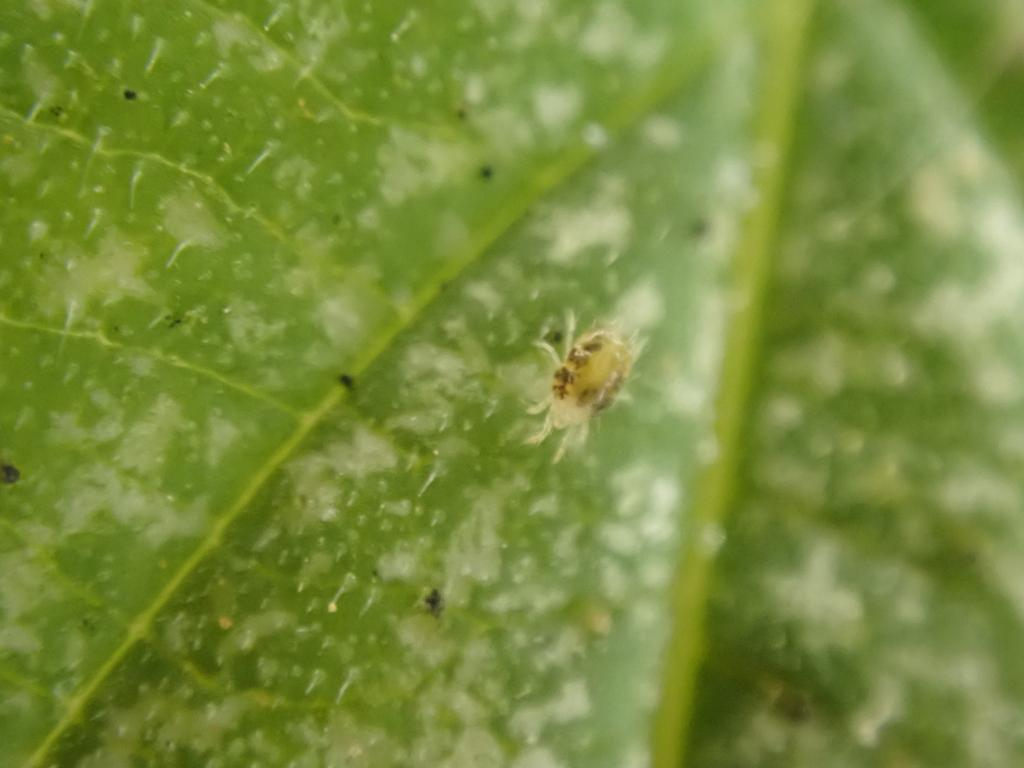tiny_pests: (500, 266, 670, 493)
